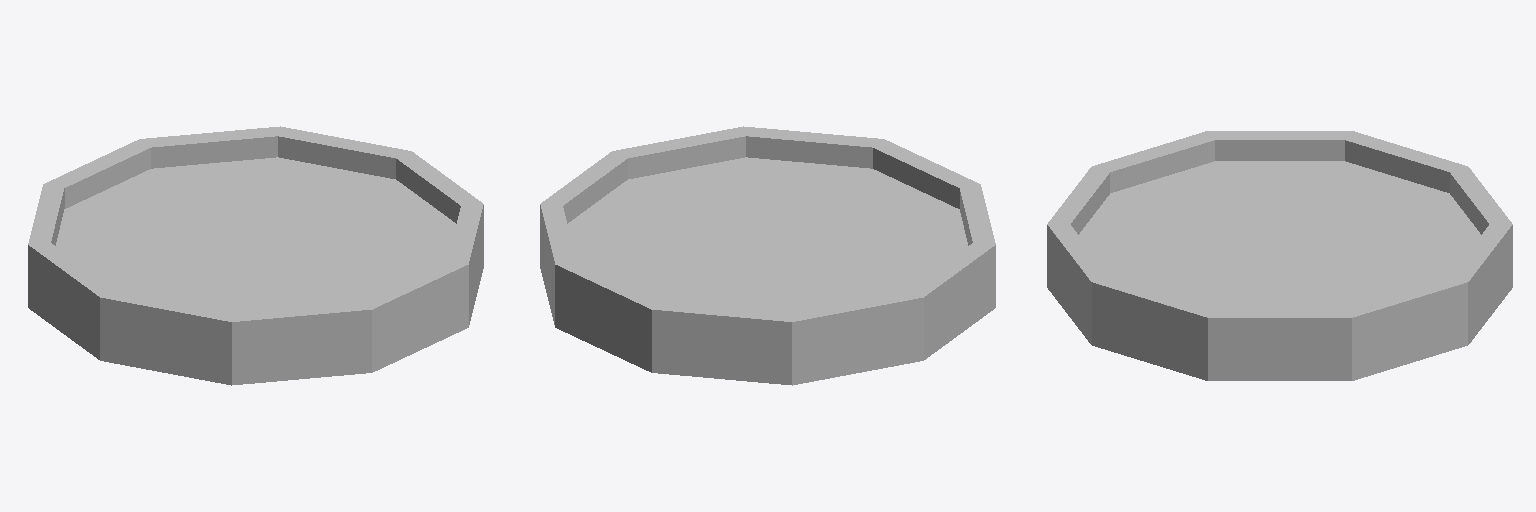
File: my_coin.obj
3 views of the same model, side by side, from view 1: azimuth 30°, elevation 25°; view 2: azimuth 150°, elevation 25°; view 3: azimuth 270°, elevation 25° (orthographic).
Visible parts, largest first — view 1: Cylinder; view 2: Cylinder; view 3: Cylinder.
Boxes of the visible parts, <box> form: Cylinder: <box>28,126,483,385</box>; Cylinder: <box>540,126,995,385</box>; Cylinder: <box>1047,131,1512,380</box>.
Size of the model in its own units: 1.9 by 0.3 by 2.